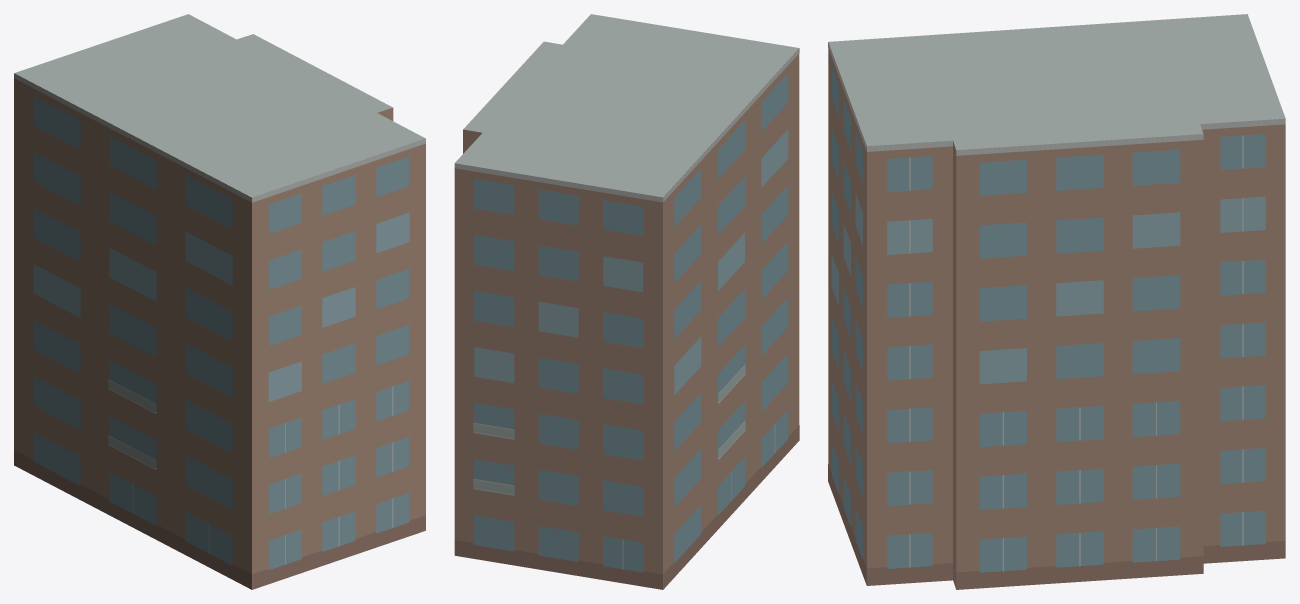
Rendered from survey-upis-32742075.glb.
3 renders of one model, left to right at view 1: azimuth 30°, elevation 25°; view 2: azimuth 150°, elevation 25°; view 3: azimuth 270°, elevation 25°, orthographic. The views are drawn at different scales.
Parts seen in each view (by area): view 1: survey-upis-32742075.tmp; view 2: survey-upis-32742075.tmp; view 3: survey-upis-32742075.tmp.
Boxes of the visible parts, x1,y1,x2,y2 form: survey-upis-32742075.tmp: (14, 14, 425, 589); survey-upis-32742075.tmp: (454, 14, 799, 589); survey-upis-32742075.tmp: (828, 14, 1285, 589).
Bounding box in the file's own units: 12.64 × 19 × 17.93.
